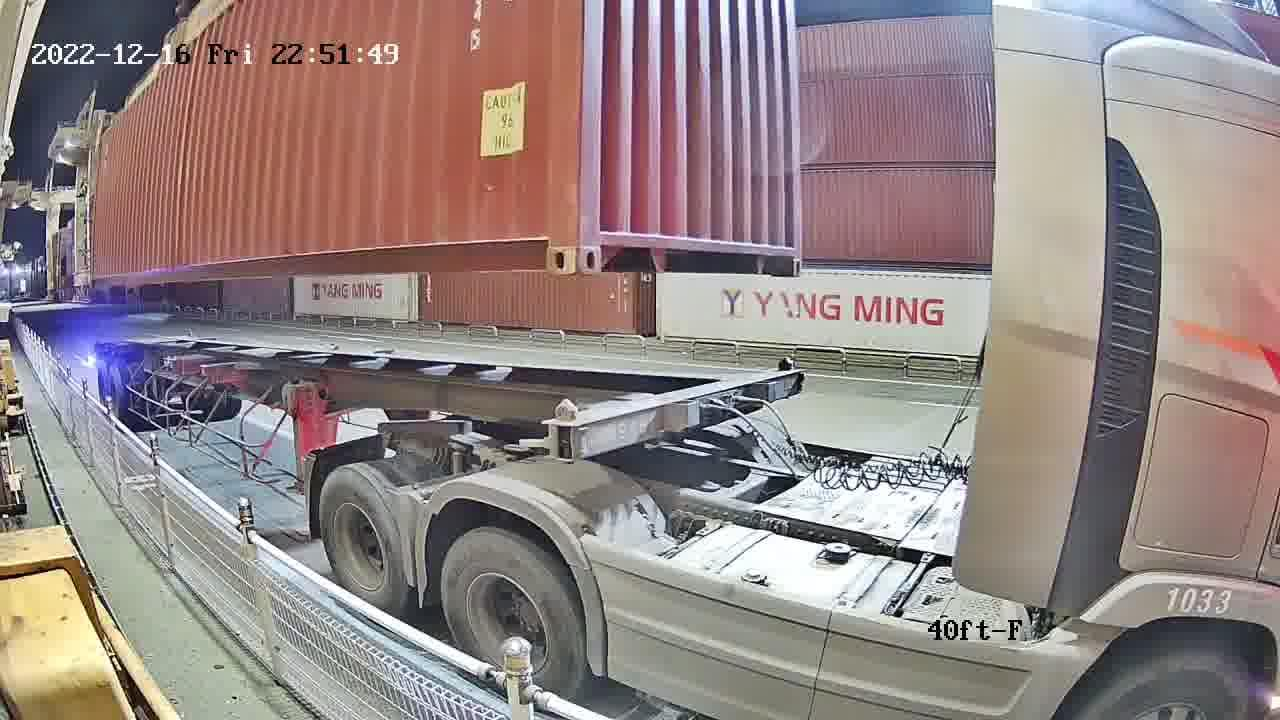Chassis: (546, 367, 802, 457)
Cone: (545, 397, 583, 459), (777, 357, 795, 380)
Hole_L: (577, 215, 631, 275)
Hole_R: (513, 211, 579, 279), (766, 226, 804, 275)
Tire: (440, 536, 583, 684), (320, 471, 403, 607)
